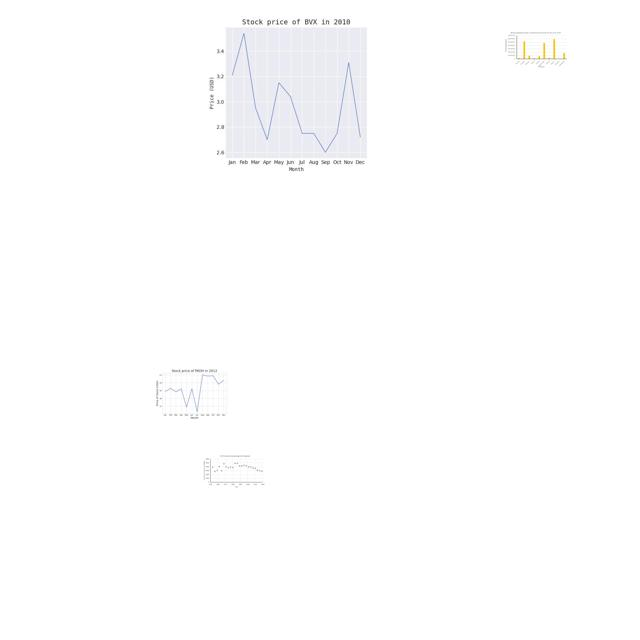Graph: (180, 7, 407, 177), (152, 362, 235, 424), (504, 31, 568, 68), (202, 454, 265, 489)
